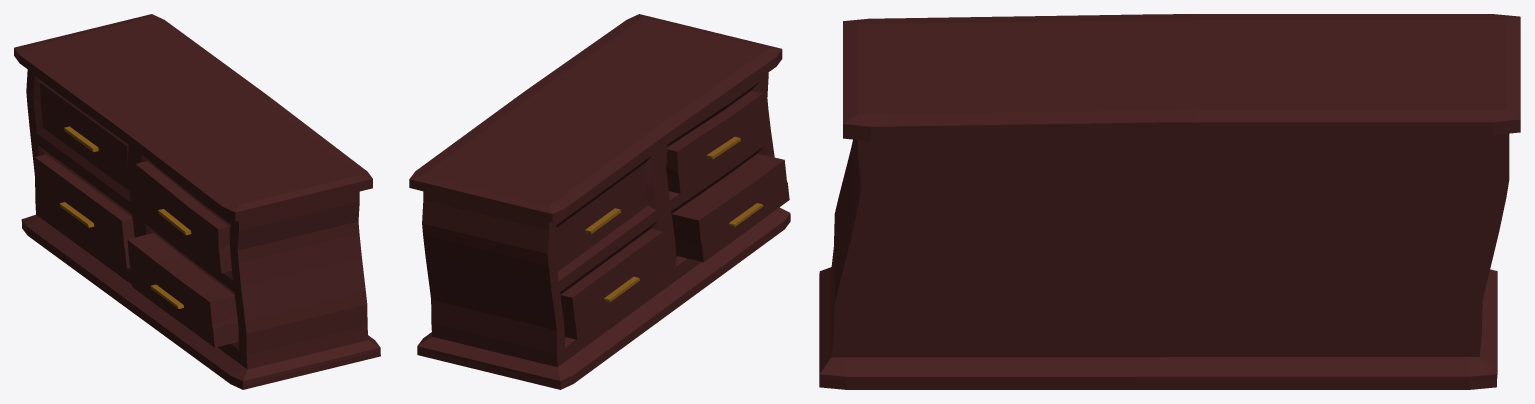
File: gKommode1.fbx
3 views of the same model, side by side, from view 1: azimuth 30°, elevation 25°; view 2: azimuth 150°, elevation 25°; view 3: azimuth 270°, elevation 25° (orthographic). The views are drawn at different scales.
Visible parts, largest first — view 1: Schrank2.1; view 2: Schrank2.1; view 3: Schrank2.1.
Boxes of the visible parts, bbox=[...] form: Schrank2.1: bbox=[14, 14, 380, 389]; Schrank2.1: bbox=[409, 14, 790, 389]; Schrank2.1: bbox=[819, 14, 1520, 389].
Size of the model in its own units: 170 by 179 by 419.
